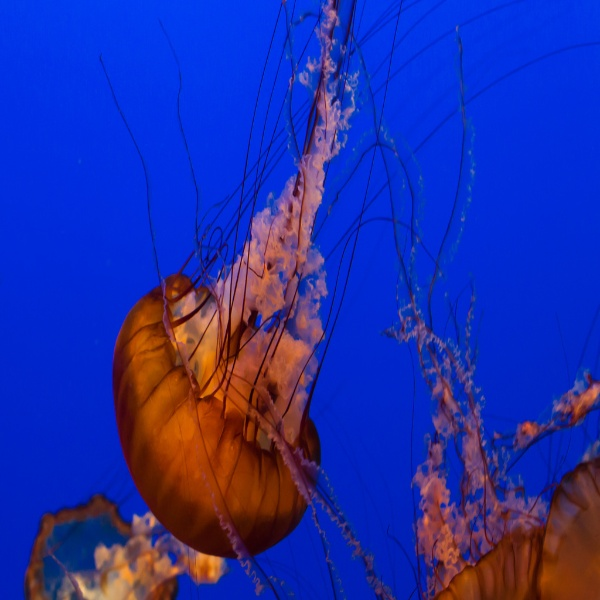Jellyfish: (106, 0, 473, 600), (348, 26, 538, 598), (536, 311, 599, 599), (25, 492, 190, 599)
